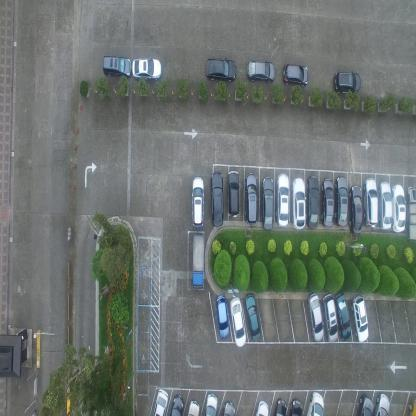car: (209, 170, 224, 229), (306, 292, 324, 341), (334, 290, 352, 339), (244, 292, 262, 340), (276, 171, 291, 228), (204, 56, 236, 82), (230, 296, 246, 348), (332, 68, 361, 96), (291, 176, 306, 230), (190, 175, 205, 228), (191, 233, 205, 289), (352, 295, 369, 341), (101, 53, 131, 79), (246, 58, 276, 84), (322, 293, 338, 341), (391, 182, 406, 233), (336, 173, 350, 227), (244, 172, 258, 226), (307, 172, 320, 230), (349, 184, 364, 234), (130, 55, 161, 79), (364, 175, 378, 227), (321, 175, 335, 226), (282, 62, 309, 88), (262, 174, 274, 232), (379, 180, 393, 229), (215, 293, 230, 338), (226, 169, 239, 219), (407, 183, 416, 242), (306, 389, 324, 415), (153, 387, 169, 415), (373, 393, 391, 415), (356, 394, 373, 415), (170, 392, 184, 416), (204, 392, 218, 415), (254, 397, 269, 415), (289, 397, 303, 415), (273, 397, 287, 415), (221, 398, 235, 416), (187, 400, 200, 416), (408, 396, 416, 415)
